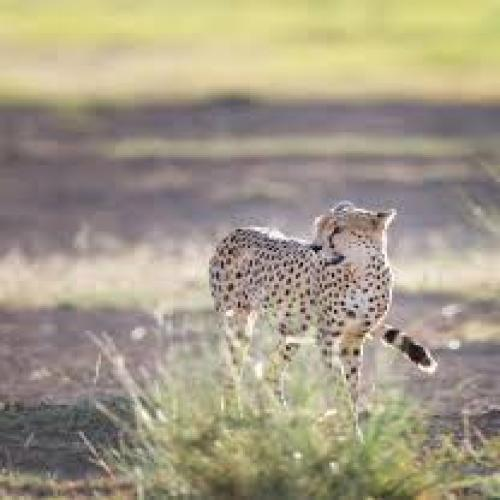cheetah-endangered: (207, 202, 432, 393)
